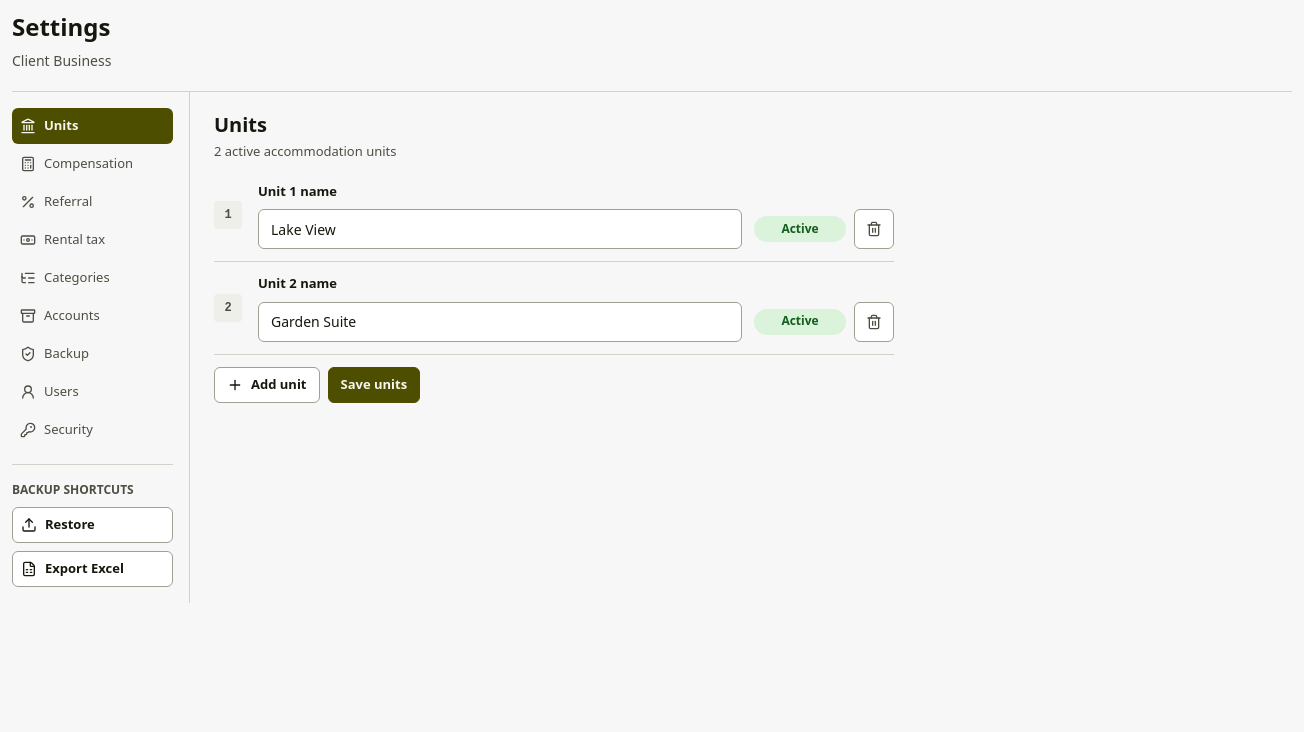
Test: settings › opens Backup from the Open Backup section for Excel export shortcut without invoking Export Excel
Click the button with aria-label "Open Backup section for Excel export".
click(92, 569)  # box [12,551,173,587]
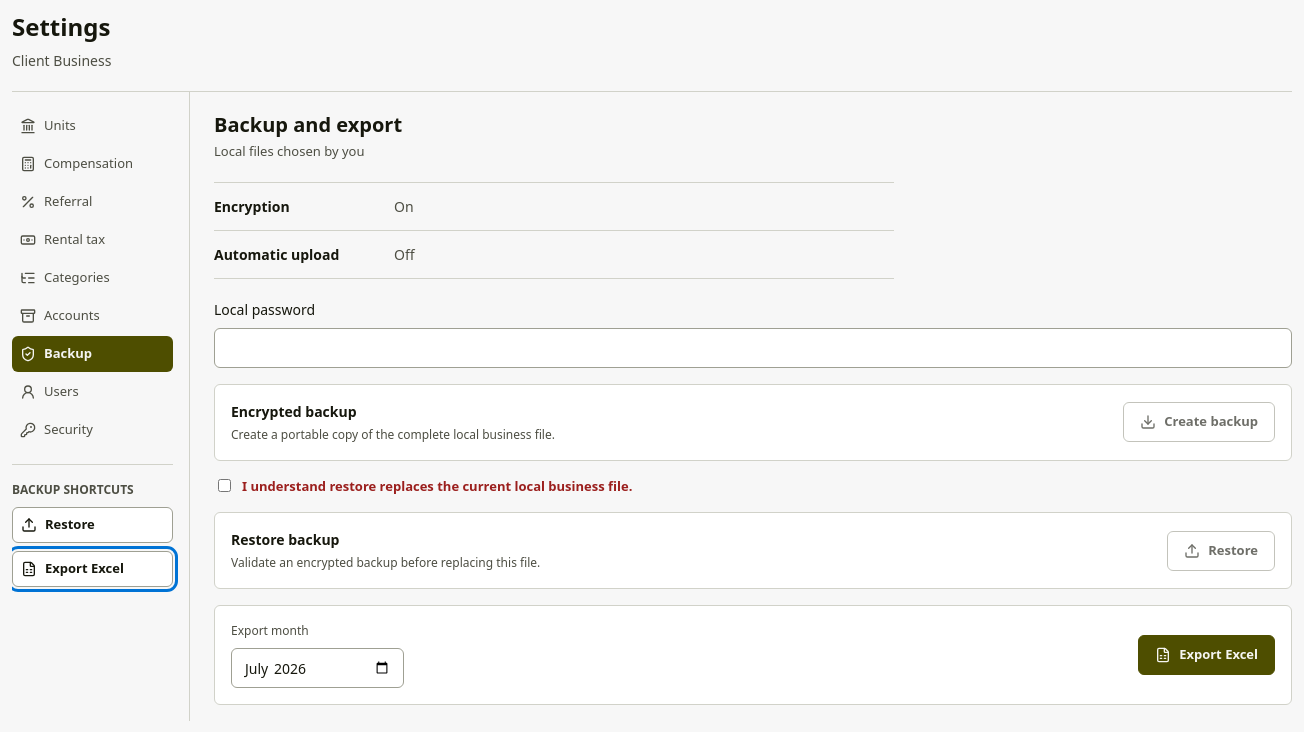
Expected: the heading "Backup and export" is shown, [214,111,402,138]
Expected: the button "Export Excel" in the row of "Export month" is shown, [1138,635,1275,675]
